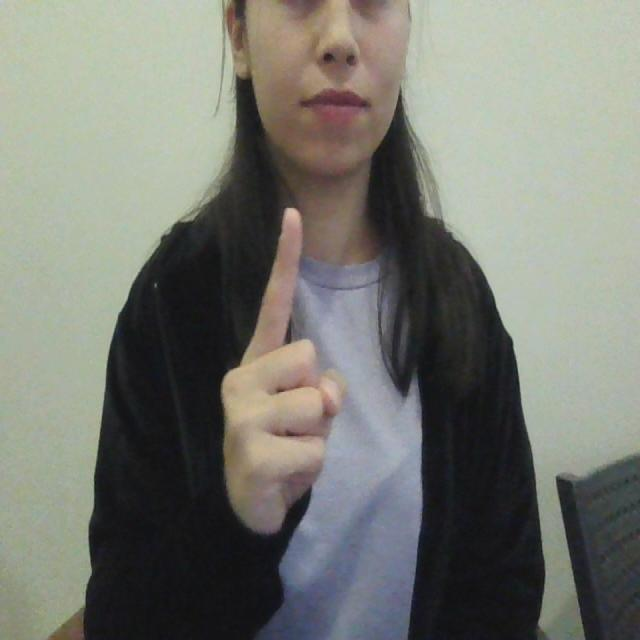Hayir: (210, 204, 349, 530)
